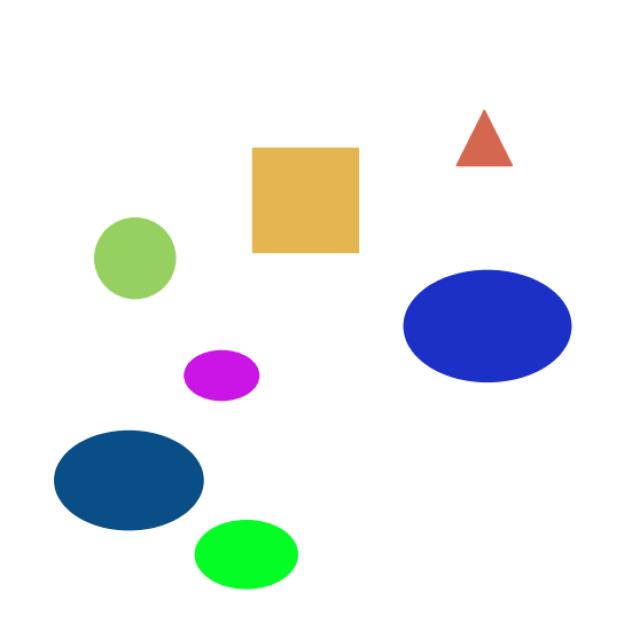Circle: (67, 204, 188, 310)
Oval: (384, 264, 598, 396), (43, 426, 221, 541), (181, 515, 321, 600), (173, 338, 284, 423)
Triangle: (444, 92, 528, 176)
square: (238, 118, 377, 266)
